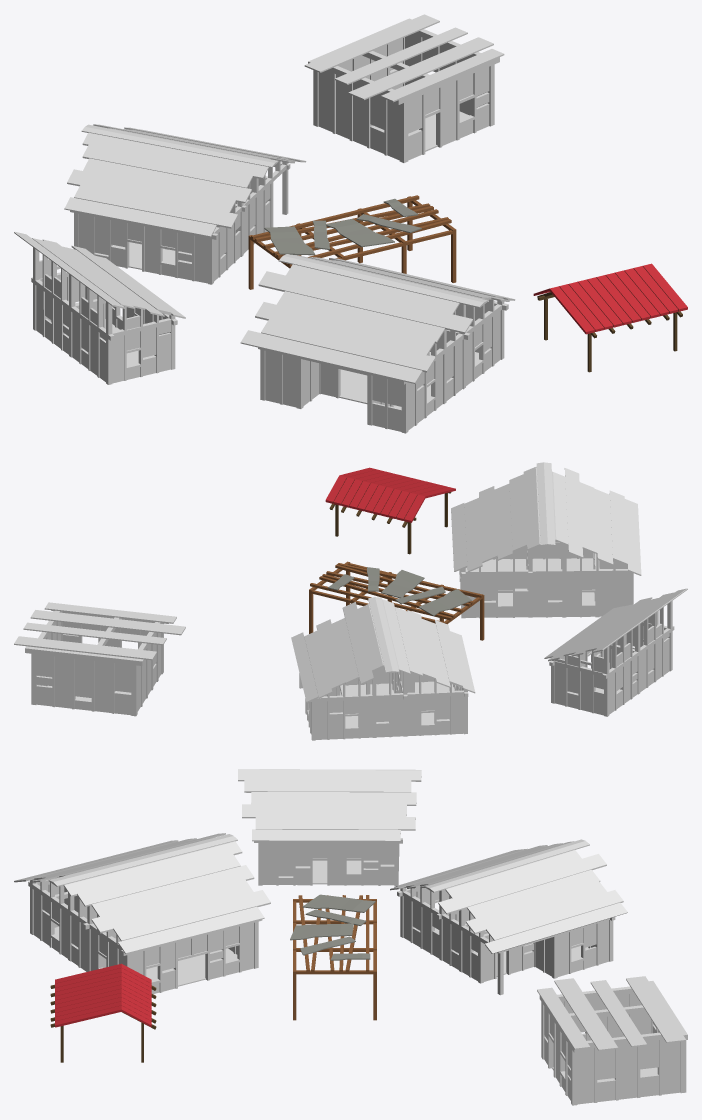
File: wooden_houses.fbx
The picture shows the model from 3 angles, top to bottom: view 1: azimuth 30°, elevation 25°; view 2: azimuth 150°, elevation 25°; view 3: azimuth 270°, elevation 25°; orthographic projection. The views are drawn at different scales.
Parts seen in each view (by area): view 1: wooden_house03, wooden_house02, wooden_house04, wooden_house01, wooden_structure02, wooden_structure01; view 2: wooden_house03, wooden_house02, wooden_house04, wooden_house01, wooden_structure02, wooden_structure01; view 3: wooden_house03, wooden_house02, wooden_house01, wooden_house04, wooden_structure02, wooden_structure01.
Boxes of the visible parts, x1,y1,x2,y2 form: wooden_house03: [240, 254, 515, 433]; wooden_house02: [64, 124, 306, 284]; wooden_house04: [304, 14, 504, 162]; wooden_house01: [14, 232, 185, 384]; wooden_structure02: [248, 195, 456, 289]; wooden_structure01: [533, 263, 687, 372]; wooden_house03: [451, 462, 641, 618]; wooden_house02: [291, 597, 475, 740]; wooden_house04: [14, 602, 185, 716]; wooden_house01: [544, 588, 687, 716]; wooden_structure02: [309, 561, 484, 640]; wooden_structure01: [325, 467, 455, 554]; wooden_house03: [14, 833, 270, 993]; wooden_house02: [390, 839, 627, 995]; wooden_house01: [238, 769, 421, 885]; wooden_house04: [537, 976, 687, 1105]; wooden_structure02: [290, 894, 376, 1020]; wooden_structure01: [50, 963, 156, 1062].
Size of the model in its own units: 4481 by 743 by 4916.
